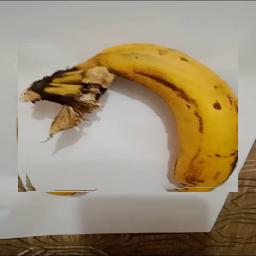Banana Semifresh: (18, 44, 238, 193)
